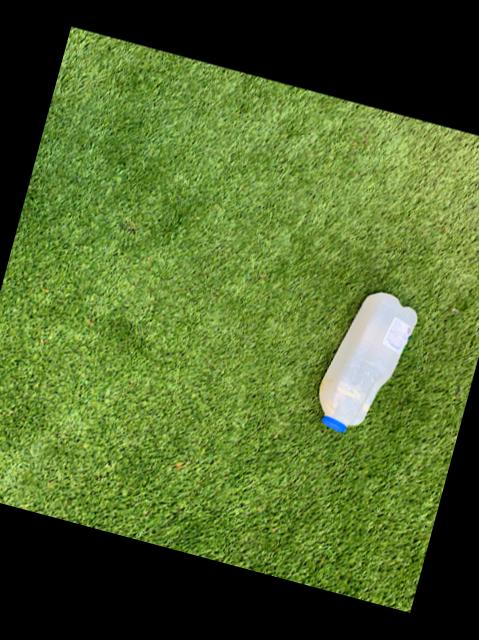plastic: (319, 294, 417, 434)
